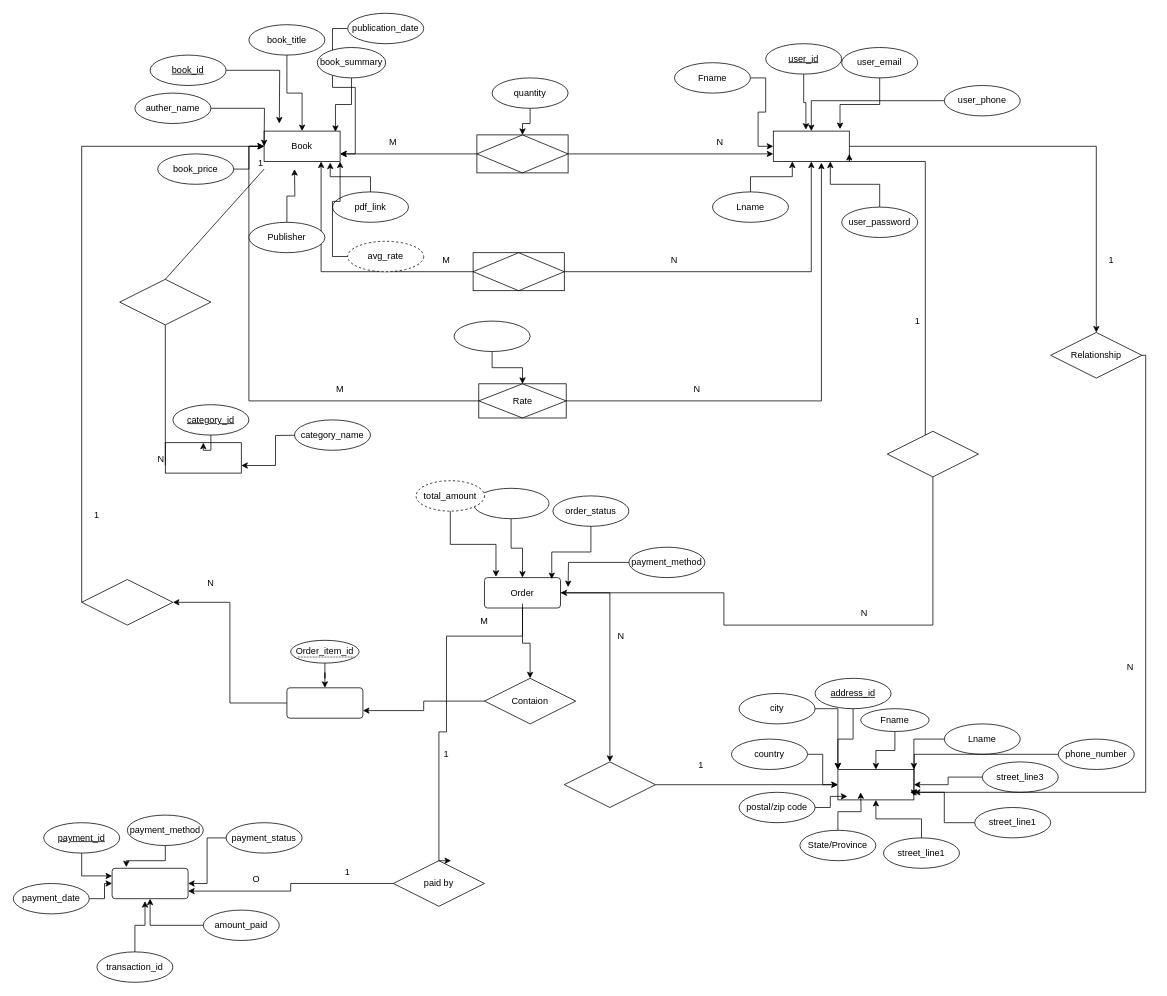
This 1167x996 diagram has some shape labels left out. The shapes that lost their labels are listed below. From the top down, each one's centre as x and y in pixels, then its label:
At point 522,153: "Add Cart".
At point 811,146: "User".
At point 518,271: "Wishlist".
At point 165,302: "Belong".
At point 491,336: "Rate_value".
At point 203,457: "Category".
At point 932,454: "Place".
At point 510,503: "order_id".
At point 127,602: "Refers to".
At point 324,702: "Order Item".
At point 610,784: "Has".
At point 875,784: "Address".
At point 149,883: "Payment".
